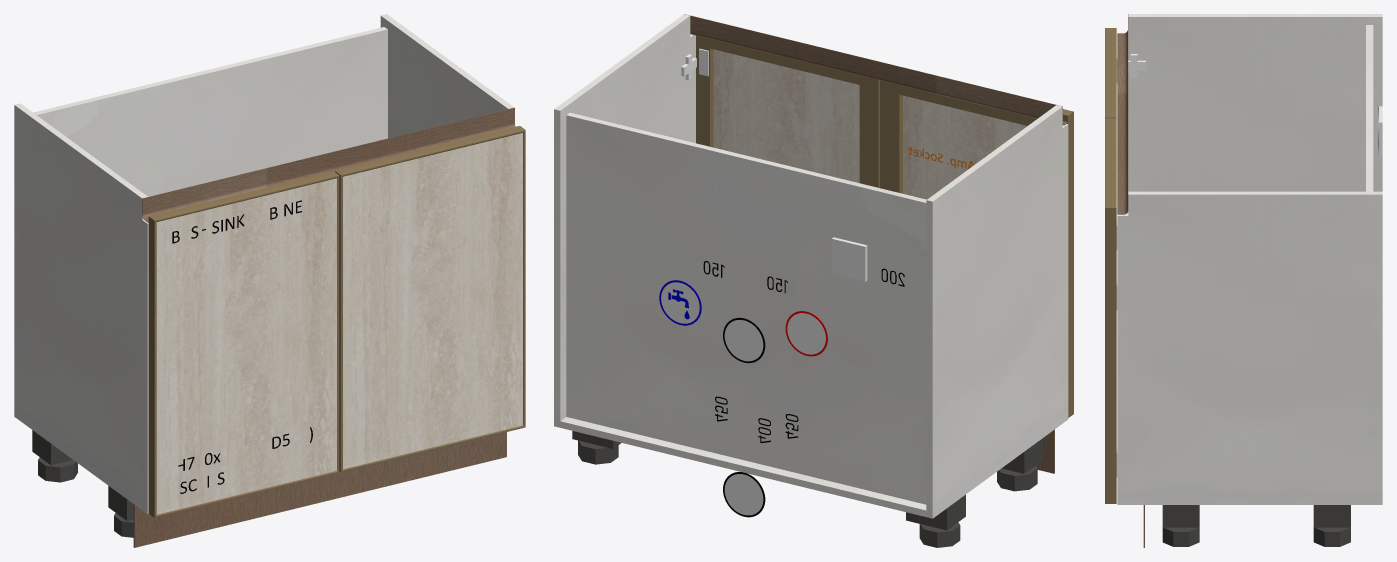
Rendered from BC-SK-CJ-ST-XXX-2HS-XXX-900-720-560-15.glb.
3 views of the same model, side by side, from view 1: azimuth 30°, elevation 25°; view 2: azimuth 150°, elevation 25°; view 3: azimuth 270°, elevation 25° (orthographic). The views are drawn at different scales.
Parts seen in each view (by area): view 1: Object_node_17, Object_node, TP_node_0, TP, Object_node_85, TP_node_1, ExtrSplGeo, Extrusion_node_1, Extrusion_node_2, Extrusion, Extrusion_node_5, Object_node_35 (+7 smaller); view 2: TP, TP_node_0, Object_node_17, TP_node_1, Object_node, ExtrSplGeo, TP_node, Extrusion_node, Extrusion_node_5, Extrusion_node_1, Extrusion_node_2, Extrusion_node_3 (+12 smaller); view 3: TP_node_1, TP_node_0, Extrusion_node_3, ExtrSplGeo, Object_node_37, TP_node, TP, Extrusion, Extrusion_node_2, Plate_node, Plate_node_1, Foot_node_1 (+1 smaller).
Boxes of the visible parts, bbox=[...] form: Object_node_17: bbox=[343, 133, 522, 469]; Object_node: bbox=[156, 178, 336, 514]; TP_node_0: bbox=[14, 103, 148, 500]; TP: bbox=[33, 27, 387, 196]; Object_node_85: bbox=[133, 432, 506, 547]; TP_node_1: bbox=[380, 14, 514, 138]; ExtrSplGeo: bbox=[142, 107, 515, 222]; Extrusion_node_1: bbox=[148, 216, 156, 517]; Extrusion_node_2: bbox=[335, 126, 525, 176]; Extrusion: bbox=[149, 171, 339, 221]; Extrusion_node_5: bbox=[335, 171, 342, 472]; Object_node_35: bbox=[14, 403, 148, 507]; TP: bbox=[566, 112, 926, 504]; TP_node_0: bbox=[926, 105, 1068, 504]; Object_node_17: bbox=[713, 49, 859, 182]; TP_node_1: bbox=[554, 14, 695, 413]; Object_node: bbox=[903, 95, 1027, 199]; ExtrSplGeo: bbox=[684, 14, 1068, 125]; TP_node: bbox=[554, 413, 1068, 518]; Extrusion_node: bbox=[880, 80, 902, 193]; Extrusion_node_5: bbox=[859, 78, 879, 187]; Extrusion_node_1: bbox=[1063, 112, 1073, 417]; Extrusion_node_2: bbox=[701, 37, 868, 84]; Extrusion_node_3: bbox=[696, 35, 713, 147]; TP_node_1: bbox=[1117, 191, 1382, 491]; TP_node_0: bbox=[1127, 14, 1382, 212]; Extrusion_node_3: bbox=[1105, 208, 1116, 503]; ExtrSplGeo: bbox=[1117, 14, 1128, 214]; Object_node_37: bbox=[1117, 491, 1382, 498]; TP_node: bbox=[1117, 498, 1382, 504]; TP: bbox=[1366, 25, 1373, 191]; Extrusion: bbox=[1105, 28, 1116, 117]; Extrusion_node_2: bbox=[1105, 118, 1116, 207]; Plate_node: bbox=[1313, 505, 1350, 527]; Plate_node_1: bbox=[1162, 505, 1199, 527]; Foot_node_1: bbox=[1162, 527, 1199, 546].
Size of what is drawn, in the model's own units: 0.9 by 0.82 by 0.5899.
Materials: 14 (3 with a texture image).
